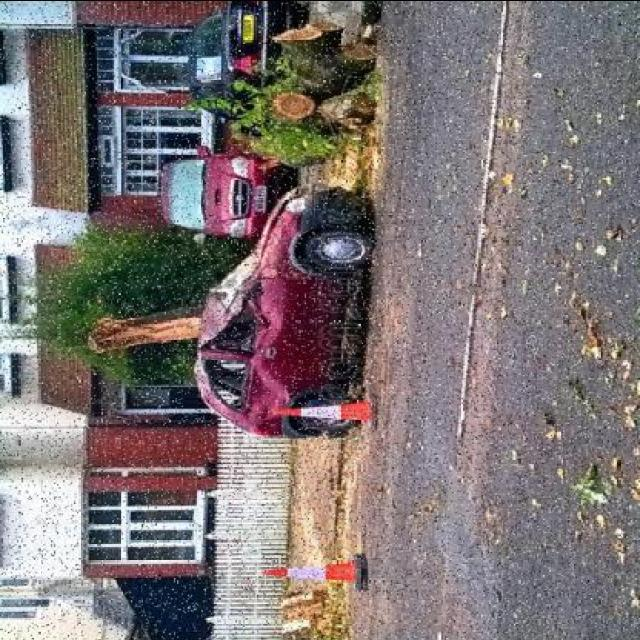doorouter-dent: (257, 276, 337, 359), (248, 361, 341, 417)
fender-dent: (268, 214, 310, 277)
roof-dent: (194, 286, 226, 402)
